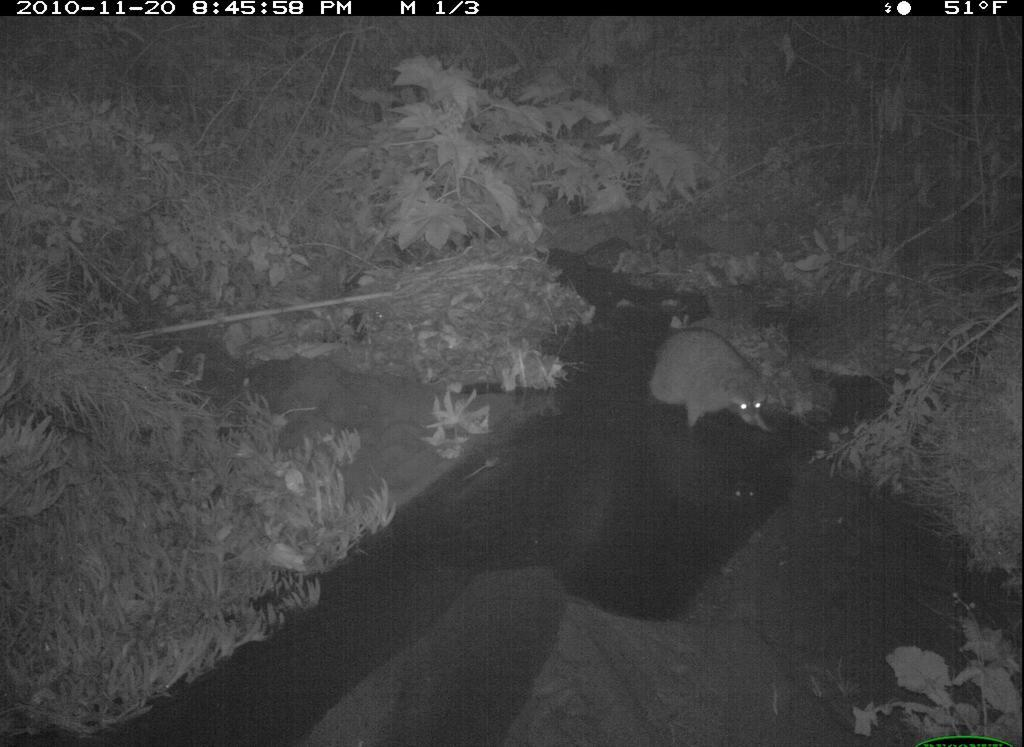raccoon: (646, 326, 783, 440)
